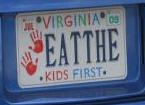A: (58, 32, 69, 66)
E: (107, 27, 120, 62), (44, 32, 57, 67)
H: (95, 29, 107, 63)
T: (82, 29, 94, 64), (69, 30, 81, 65)
